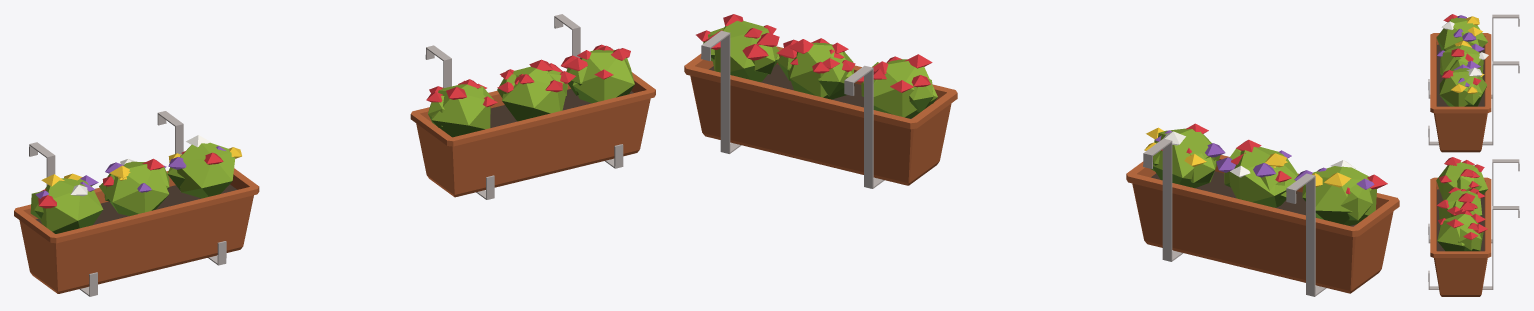
The model's file is SM_Fixture_RailPlanterShort16520_Alu_Flower_01.gltf.
The picture shows the model from 3 angles, left to right: view 1: azimuth 30°, elevation 25°; view 2: azimuth 150°, elevation 25°; view 3: azimuth 270°, elevation 25°; orthographic projection. The views are drawn at different scales.
Visible parts, largest first — view 1: SM_Fixture_RailPlanterShort16520_Alu_Flower_01; view 2: SM_Fixture_RailPlanterShort16520_Alu_Flower_01; view 3: SM_Fixture_RailPlanterShort16520_Alu_Flower_01.
Boxes of the visible parts, x1,y1,x2,y2 form: SM_Fixture_RailPlanterShort16520_Alu_Flower_01: [14, 14, 655, 296]; SM_Fixture_RailPlanterShort16520_Alu_Flower_01: [684, 14, 1399, 296]; SM_Fixture_RailPlanterShort16520_Alu_Flower_01: [1428, 14, 1519, 296].
Size of the model in its own units: 1.89 by 0.3225 by 0.329.
Materials: 1 (1 with a texture image).
